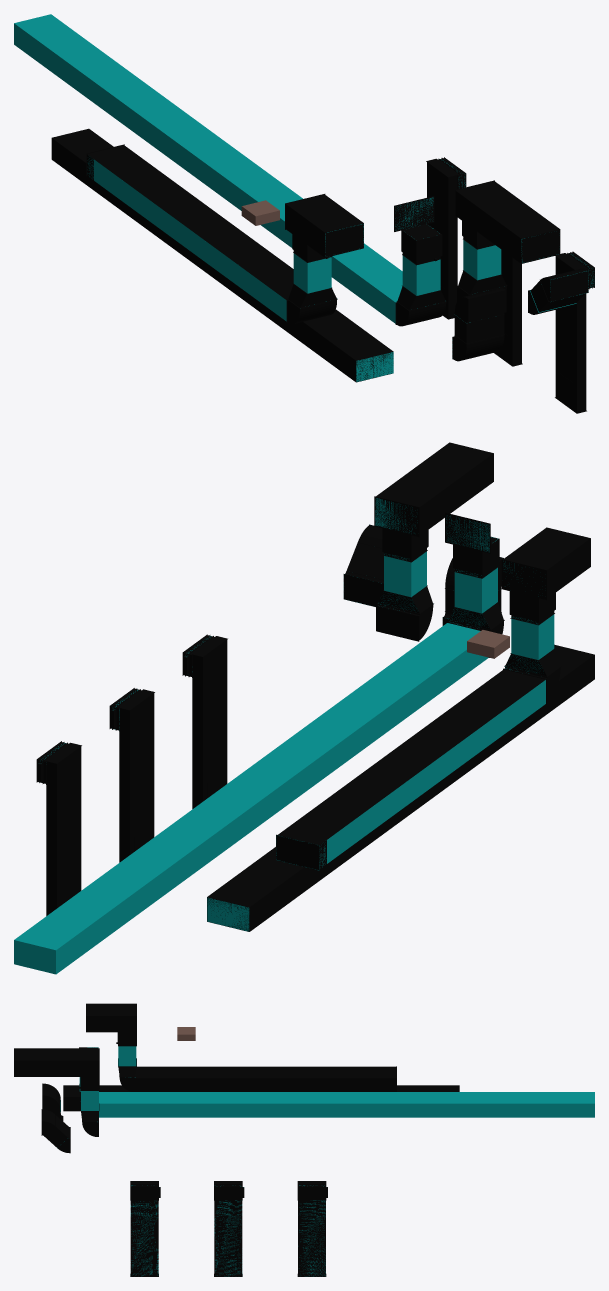
Rendered from GCC-AAV-13220-30.nwd(21).fbx.
3 views of the same model, one above another, from view 1: azimuth 30°, elevation 25°; view 2: azimuth 150°, elevation 25°; view 3: azimuth 270°, elevation 25° (orthographic). The views are drawn at different scales.
Visible parts, largest first — view 1: Параллелепипед (×9), STRT 3 of BRANCH /794-13220-BD-001-EF-101C-EA-0001-001, STRT 5 of BRANCH /794-13220-BD-001-EF-101B-EA-0001-001, STRT 5 of BRANCH /794-13220-BD-001-EF-101C-EA-0001-001, STRT 1 of BRANCH /794-13220-BD-001-SSN-101-SAA-0016-001, STRT 1 of BRANCH /794-13220-BD-001-SSN-101-SAA-0018-001, STRT 1 of BRANCH /794-13220-BD-001-SSN-101-SAA-0017-001, ELBOW 7 of BRANCH /794-13220-BD-001-AHU-101C-SAA-0001-002, STRT 4 of BRANCH /794-13220-BD-001-EF-101A-EA-0001-001, ELBOW 5 of BRANCH /794-13220-BD-001-AHU-101B-SAA-0001-002, CAP 2 of BRANCH /794-13220-BD-001-EF-101A-EA-0001-001, ELBOW 6 of BRANCH /794-13220-BD-001-AHU-101C-SAA-0001-002 (+6 smaller); view 2: Параллелепипед (×8), STRT 3 of BRANCH /794-13220-BD-001-EF-101C-EA-0001-001, STRT 5 of BRANCH /794-13220-BD-001-EF-101B-EA-0001-001, STRT 1 of BRANCH /794-13220-BD-001-SSN-101-SAA-0018-001, STRT 1 of BRANCH /794-13220-BD-001-SSN-101-SAA-0016-001, STRT 1 of BRANCH /794-13220-BD-001-SSN-101-SAA-0017-001, STRT 5 of BRANCH /794-13220-BD-001-EF-101C-EA-0001-001, ELBOW 3 of BRANCH /794-13220-BD-001-EF-101B-EA-0001-001, CAP 2 of BRANCH /794-13220-BD-001-EF-101C-EA-0001-001, CAP 2 of BRANCH /794-13220-BD-001-EF-101A-EA-0001-001, CAP 2 of BRANCH /794-13220-BD-001-EF-101B-EA-0001-001, STRT 4 of BRANCH /794-13220-BD-001-EF-101A-EA-0001-001 (+7 smaller); view 3: Параллелепипед (×4), STRT 3 of BRANCH /794-13220-BD-001-EF-101C-EA-0001-001, STRT 1 of BRANCH /794-13220-BD-001-SSN-101-SAA-0016-001 (×2), STRT 1 of BRANCH /794-13220-BD-001-SSN-101-SAA-0017-001 (×2), STRT 1 of BRANCH /794-13220-BD-001-SSN-101-SAA-0018-001 (×2), STRT 5 of BRANCH /794-13220-BD-001-EF-101B-EA-0001-001, STRT 5 of BRANCH /794-13220-BD-001-EF-101C-EA-0001-001, ELBOW 7 of BRANCH /794-13220-BD-001-AHU-101C-SAA-0001-002, MESH 2 of BRANCH /794-13220-BD-001-SSN-101-SAA-0018-001, MESH 2 of BRANCH /794-13220-BD-001-SSN-101-SAA-0016-001, MESH 2 of BRANCH /794-13220-BD-001-SSN-101-SAA-0017-001.
Boxes of the visible parts, x1,y1,x2,y2 form: Параллелепипед (×9): [14, 14, 584, 382]; STRT 3 of BRANCH /794-13220-BD-001-EF-101C-EA-0001-001: [86, 144, 293, 300]; STRT 5 of BRANCH /794-13220-BD-001-EF-101B-EA-0001-001: [455, 181, 560, 263]; STRT 5 of BRANCH /794-13220-BD-001-EF-101C-EA-0001-001: [285, 194, 363, 257]; STRT 1 of BRANCH /794-13220-BD-001-SSN-101-SAA-0016-001: [555, 256, 586, 413]; STRT 1 of BRANCH /794-13220-BD-001-SSN-101-SAA-0018-001: [427, 162, 457, 319]; STRT 1 of BRANCH /794-13220-BD-001-SSN-101-SAA-0017-001: [494, 249, 522, 366]; ELBOW 7 of BRANCH /794-13220-BD-001-AHU-101C-SAA-0001-002: [454, 288, 506, 323]; STRT 4 of BRANCH /794-13220-BD-001-EF-101A-EA-0001-001: [401, 224, 442, 262]; ELBOW 5 of BRANCH /794-13220-BD-001-AHU-101B-SAA-0001-002: [540, 268, 588, 301]; CAP 2 of BRANCH /794-13220-BD-001-EF-101A-EA-0001-001: [394, 196, 434, 231]; ELBOW 6 of BRANCH /794-13220-BD-001-AHU-101C-SAA-0001-002: [452, 334, 504, 361]; Параллелепипед (×8): [14, 542, 594, 974]; STRT 3 of BRANCH /794-13220-BD-001-EF-101C-EA-0001-001: [276, 668, 546, 870]; STRT 5 of BRANCH /794-13220-BD-001-EF-101B-EA-0001-001: [376, 442, 493, 535]; STRT 1 of BRANCH /794-13220-BD-001-SSN-101-SAA-0018-001: [46, 746, 81, 915]; STRT 1 of BRANCH /794-13220-BD-001-SSN-101-SAA-0016-001: [192, 639, 227, 808]; STRT 1 of BRANCH /794-13220-BD-001-SSN-101-SAA-0017-001: [119, 693, 154, 862]; STRT 5 of BRANCH /794-13220-BD-001-EF-101C-EA-0001-001: [503, 527, 590, 598]; ELBOW 3 of BRANCH /794-13220-BD-001-EF-101B-EA-0001-001: [376, 604, 433, 641]; CAP 2 of BRANCH /794-13220-BD-001-EF-101C-EA-0001-001: [501, 559, 546, 599]; CAP 2 of BRANCH /794-13220-BD-001-EF-101A-EA-0001-001: [445, 512, 490, 553]; CAP 2 of BRANCH /794-13220-BD-001-EF-101B-EA-0001-001: [374, 496, 419, 537]; STRT 4 of BRANCH /794-13220-BD-001-EF-101A-EA-0001-001: [453, 536, 499, 575]; Параллелепипед (×4): [44, 1046, 594, 1147]; STRT 3 of BRANCH /794-13220-BD-001-EF-101C-EA-0001-001: [136, 1066, 396, 1091]; STRT 1 of BRANCH /794-13220-BD-001-SSN-101-SAA-0016-001 (×2): [130, 1200, 158, 1276]; STRT 1 of BRANCH /794-13220-BD-001-SSN-101-SAA-0017-001 (×2): [214, 1200, 242, 1276]; STRT 1 of BRANCH /794-13220-BD-001-SSN-101-SAA-0018-001 (×2): [297, 1200, 326, 1276]; STRT 5 of BRANCH /794-13220-BD-001-EF-101B-EA-0001-001: [14, 1048, 99, 1076]; STRT 5 of BRANCH /794-13220-BD-001-EF-101C-EA-0001-001: [86, 1003, 136, 1032]; ELBOW 7 of BRANCH /794-13220-BD-001-AHU-101C-SAA-0001-002: [42, 1083, 60, 1112]; MESH 2 of BRANCH /794-13220-BD-001-SSN-101-SAA-0018-001: [297, 1187, 326, 1200]; MESH 2 of BRANCH /794-13220-BD-001-SSN-101-SAA-0016-001: [130, 1187, 158, 1200]; MESH 2 of BRANCH /794-13220-BD-001-SSN-101-SAA-0017-001: [214, 1187, 242, 1200].
Size of the model in its own units: 646 by 560 by 1640.
